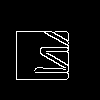W: (25, 25, 81, 83)
